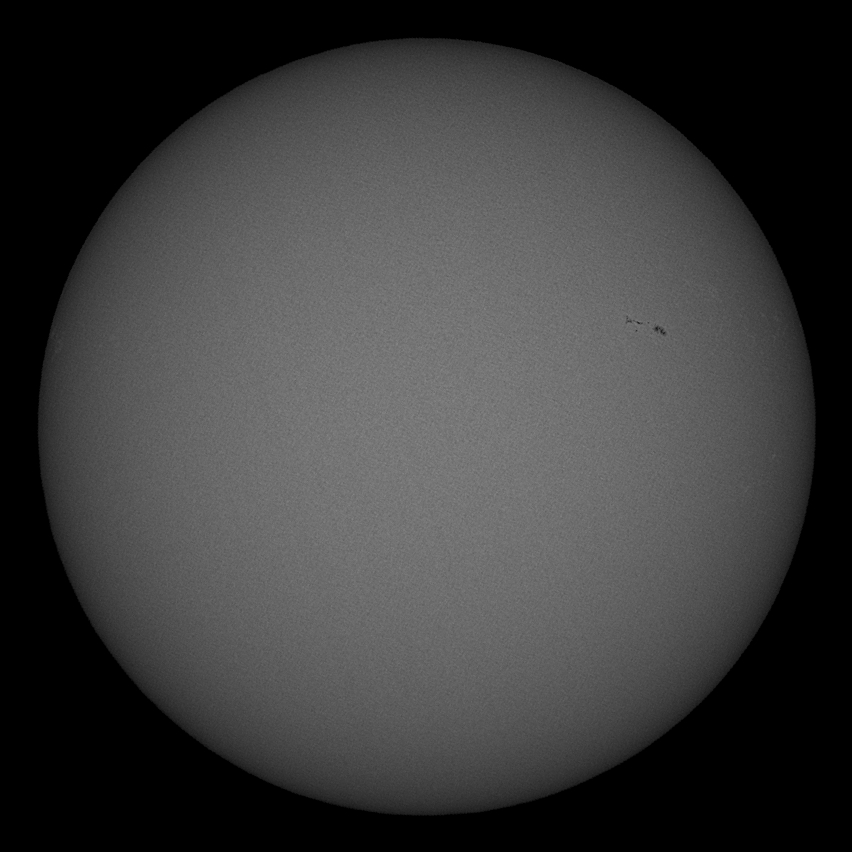sunspot: (621, 310, 671, 340)
